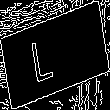L_N: (42, 26, 68, 84)
